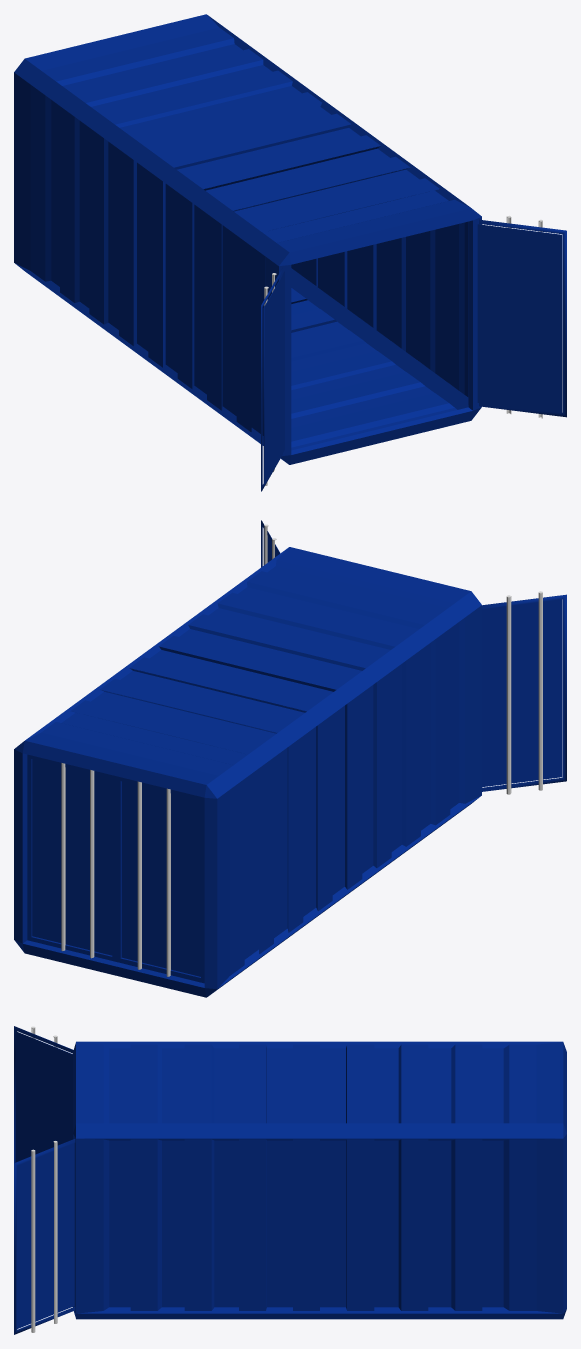
Rendered from open container.fbx.
The picture shows the model from 3 angles, top to bottom: view 1: azimuth 30°, elevation 25°; view 2: azimuth 150°, elevation 25°; view 3: azimuth 270°, elevation 25°; orthographic projection. The views are drawn at different scales.
Parts seen in each view (by area): view 1: container, doors; view 2: container, doors, tubes, tubes 2; view 3: container, doors, tubes 2.
Part boxes in pixels (box(x1,y1,x2,y2)): container: box(14, 14, 481, 464); doors: box(261, 219, 566, 491); container: box(14, 547, 481, 997); doors: box(261, 520, 566, 791); tubes: box(61, 763, 170, 976); tubes 2: box(264, 524, 542, 794); container: box(73, 1041, 566, 1319); doors: box(14, 1026, 75, 1334); tubes 2: box(31, 1026, 57, 1332).
Bounding box in the file's own units: 300 × 200 × 511.
